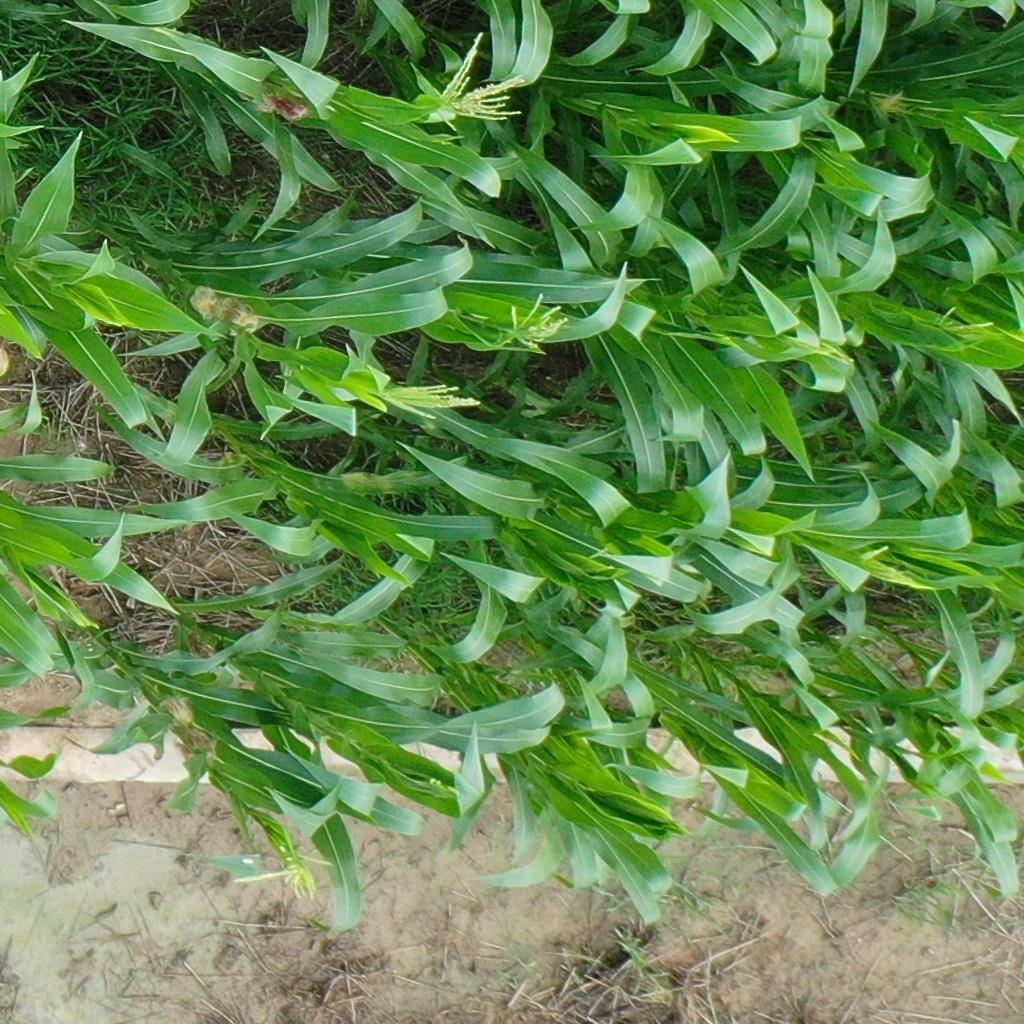Tassel: (417, 30, 528, 136), (227, 851, 339, 906), (377, 369, 482, 422), (491, 288, 569, 353), (856, 544, 933, 596), (932, 301, 1000, 347)
